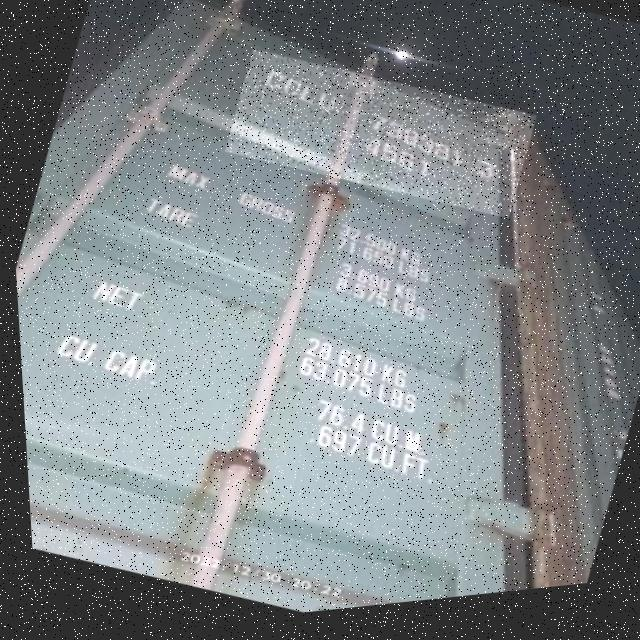container_number_h: (218, 32, 539, 252)
